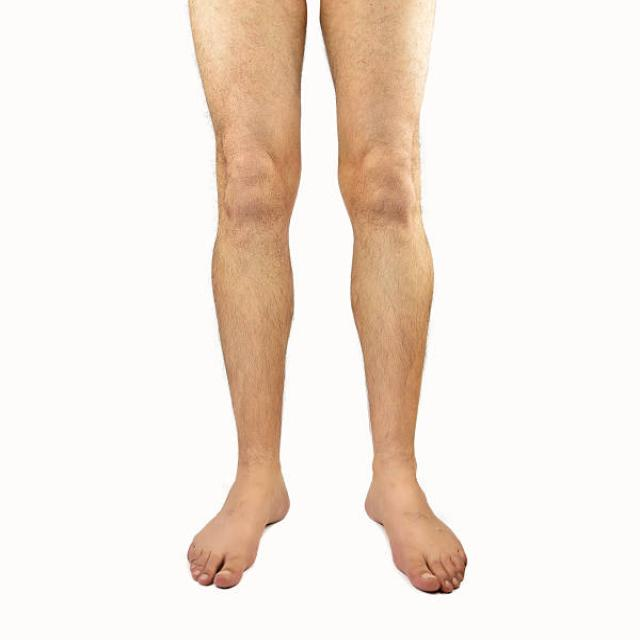piel: (311, 0, 475, 596), (181, 1, 311, 592)
